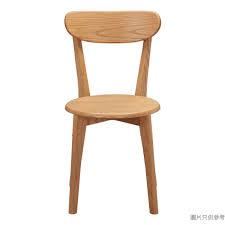chair: (51, 1, 177, 218)
